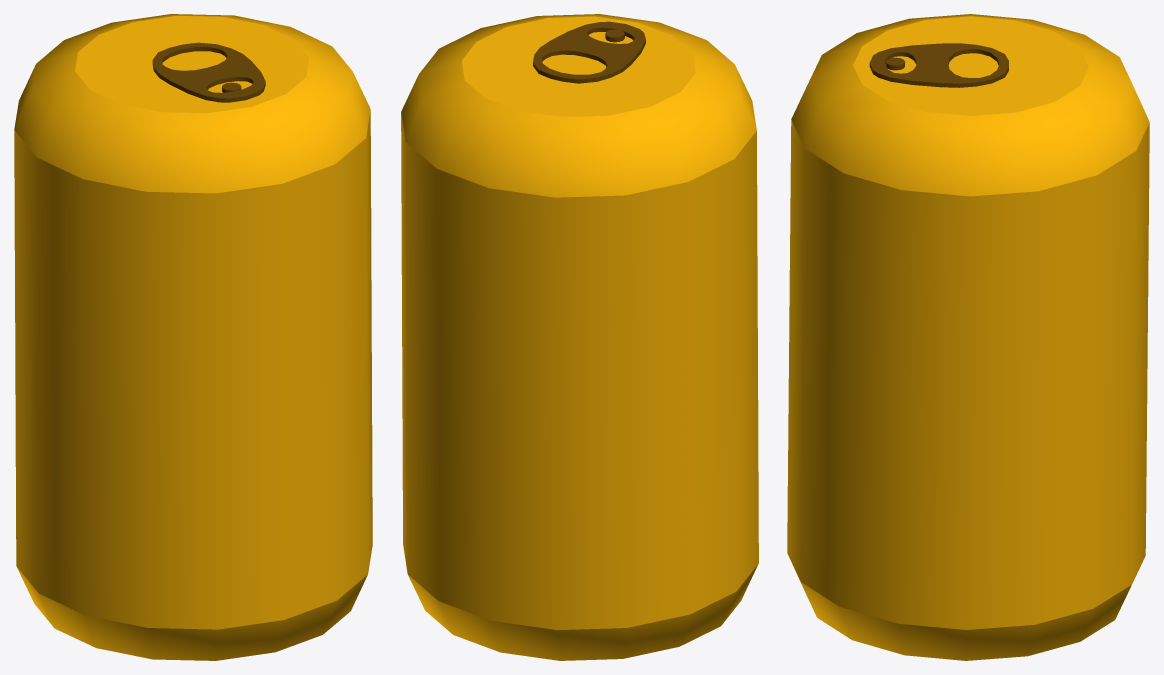
The model's file is Tin_Can_Yellow.glb.
3 views of the same model, side by side, from view 1: azimuth 30°, elevation 25°; view 2: azimuth 150°, elevation 25°; view 3: azimuth 270°, elevation 25° (orthographic).
Parts seen in each view (by area): view 1: Can; view 2: Can; view 3: Can.
Part boxes in pixels (<box>): Can: <box>14,14,372,660</box>; Can: <box>401,14,758,660</box>; Can: <box>787,14,1149,660</box>.
Size of what is drawn, in the model's own units: 0.1399 by 0.2363 by 0.1415.
